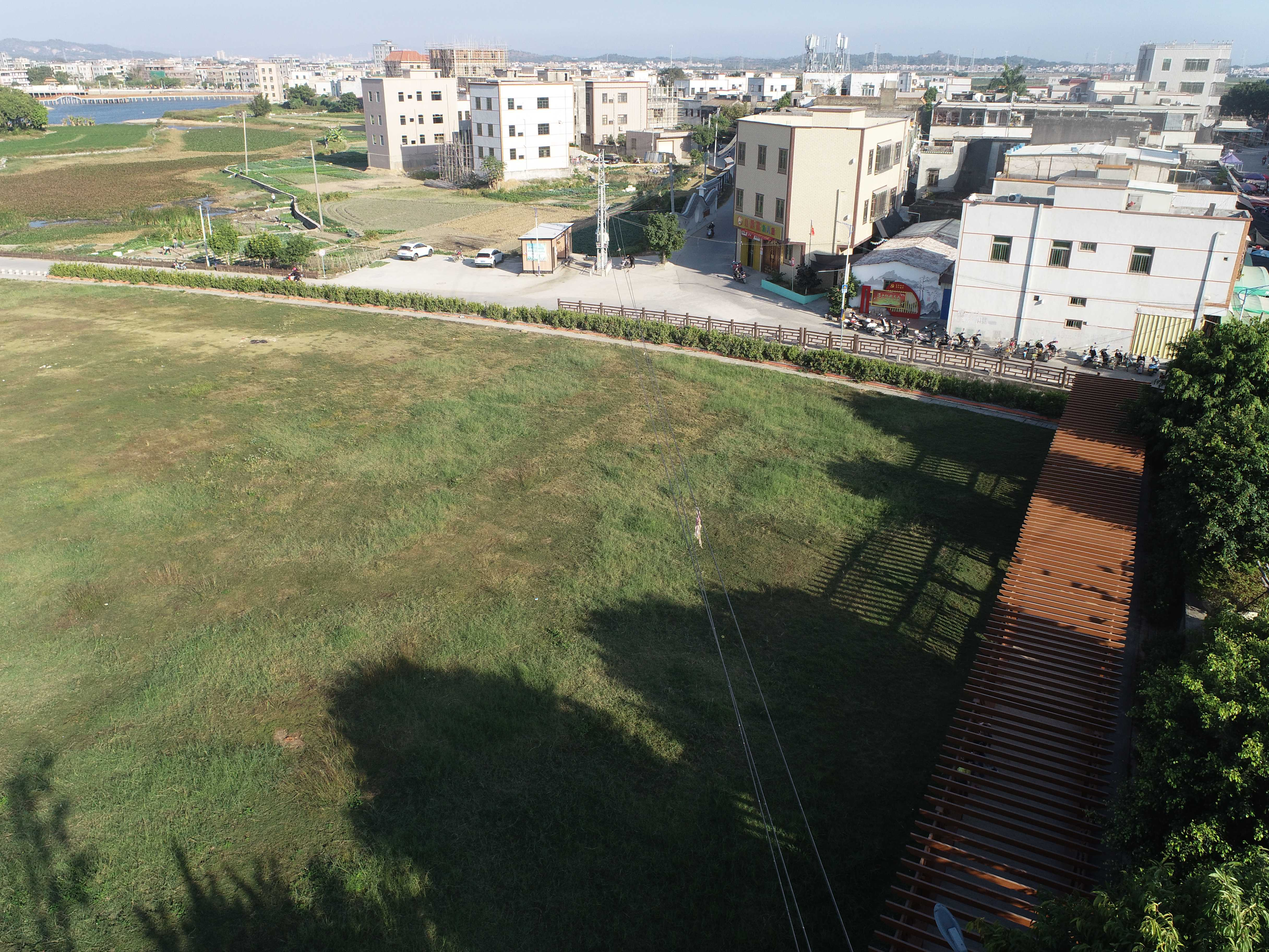异物: (694, 507, 704, 549)
